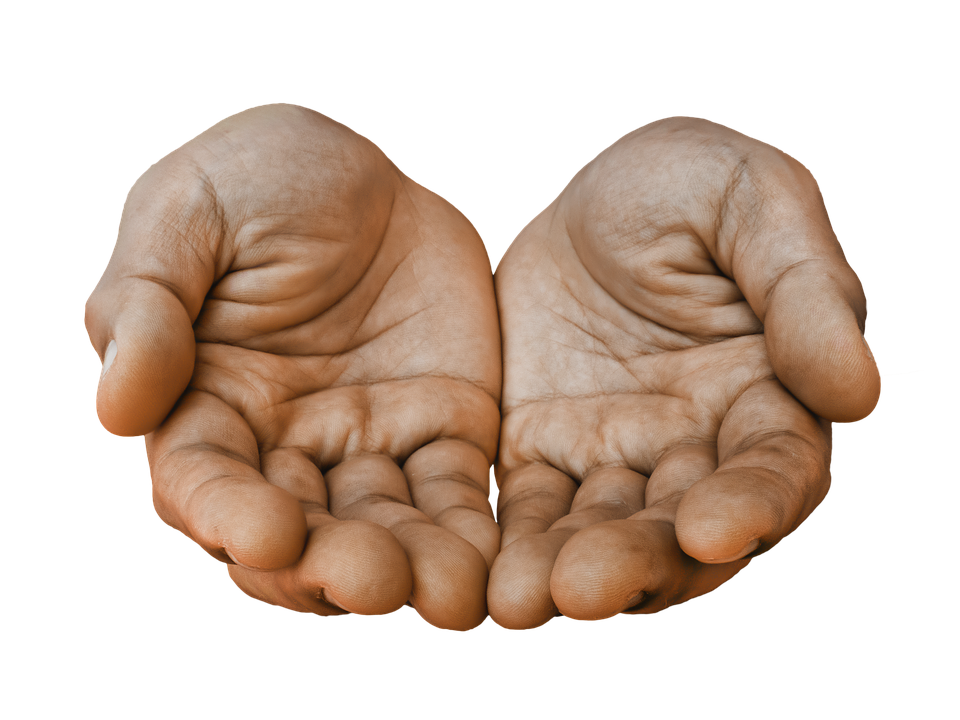hand: (69, 82, 898, 635)
